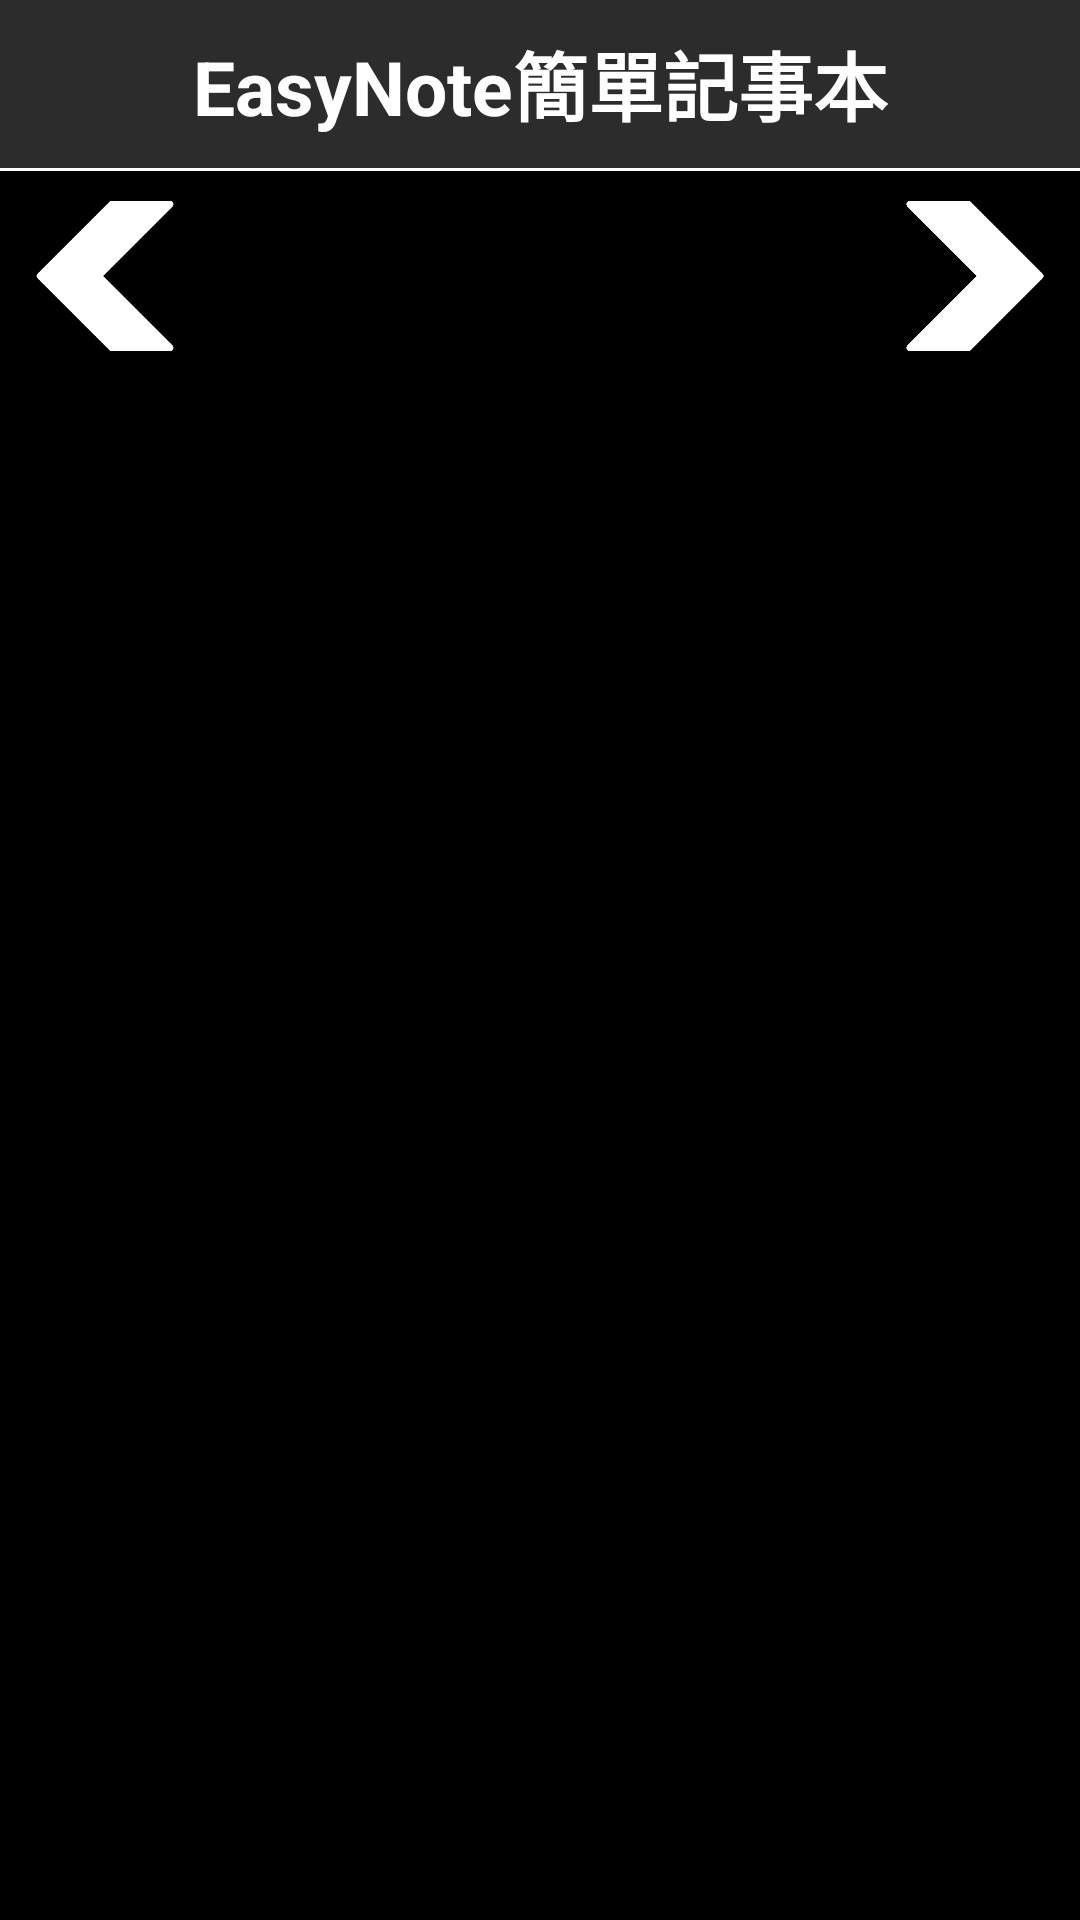

Where to tap for icons on this 1080 x 1920 app screen, as (x,y):
left: (105,276)
right: (975,276)
